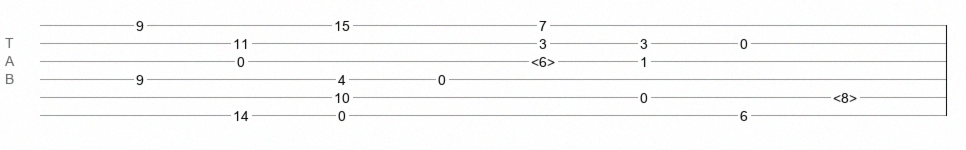0: (237, 54, 245, 64), (338, 108, 346, 118), (438, 72, 446, 82), (640, 90, 648, 100), (740, 36, 748, 46)
1: (640, 54, 648, 64)
10: (334, 90, 350, 100)
11: (233, 36, 249, 46)
14: (233, 108, 249, 118)
15: (334, 18, 350, 28)
3: (539, 36, 547, 46), (640, 36, 648, 46)
4: (338, 72, 346, 82)
6: (740, 108, 748, 118)
7: (539, 18, 547, 28)
9: (136, 18, 144, 28), (136, 72, 144, 82)
harmonic: (531, 54, 555, 64), (833, 90, 857, 100)
